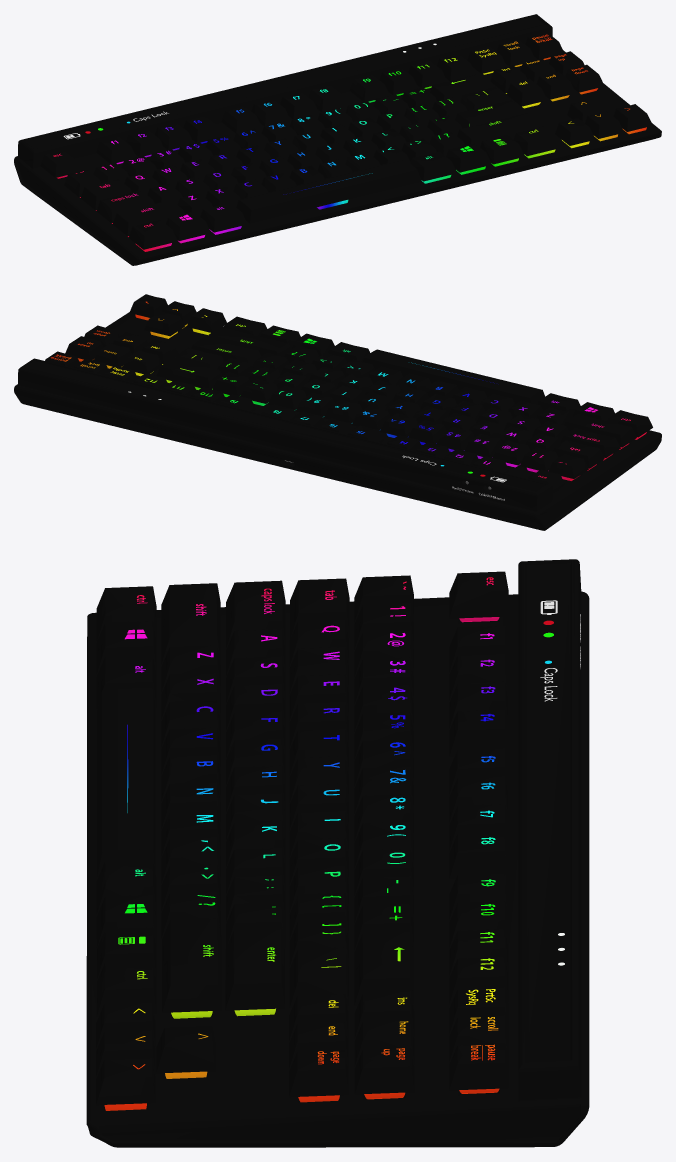
The model's file is keybord.glb.
3 views of the same model, one above another, from view 1: azimuth 30°, elevation 25°; view 2: azimuth 150°, elevation 25°; view 3: azimuth 270°, elevation 25° (orthographic). The views are drawn at different scales.
Parts seen in each view (by area): view 1: Object_5, Object_8, Object_11; view 2: Object_5, Object_8, Object_11; view 3: Object_5, Object_8, Object_11.
Boxes of the visible parts, bbox=[...] form: Object_5: bbox=[14, 14, 661, 265]; Object_8: bbox=[53, 34, 629, 227]; Object_11: bbox=[57, 57, 646, 251]; Object_5: bbox=[14, 294, 661, 530]; Object_8: bbox=[51, 301, 630, 478]; Object_11: bbox=[78, 314, 646, 480]; Object_5: bbox=[86, 559, 589, 1147]; Object_8: bbox=[118, 577, 498, 1069]; Object_11: bbox=[104, 617, 499, 1110].
Size of the model in its own units: 1.81 by 0.1374 by 0.7491.
7 materials, 4 textured.
